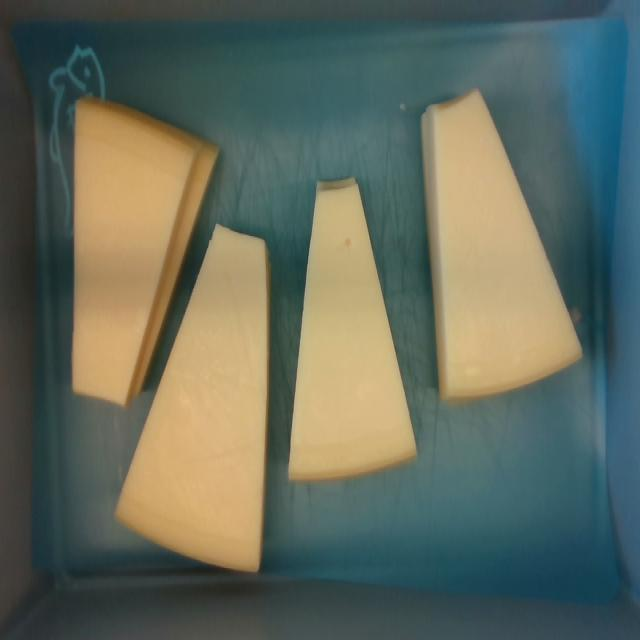cheese: (116, 225, 269, 568), (431, 90, 584, 397), (288, 185, 418, 480), (73, 99, 193, 405)
